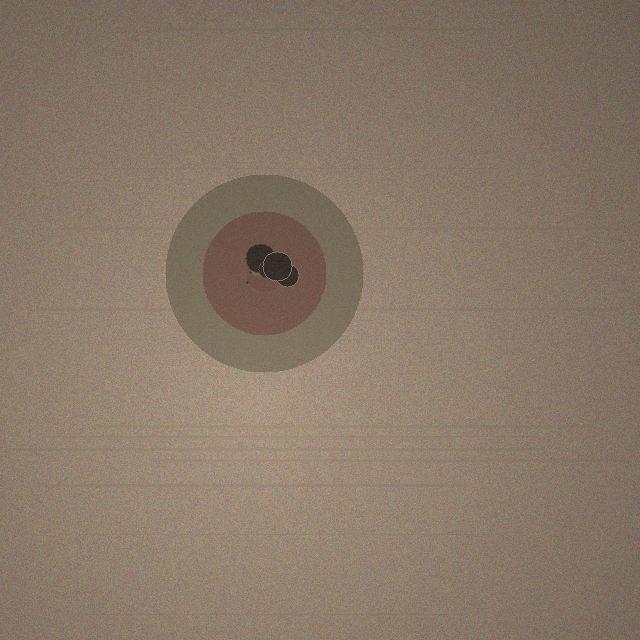shrinkage: (165, 174, 363, 372)
